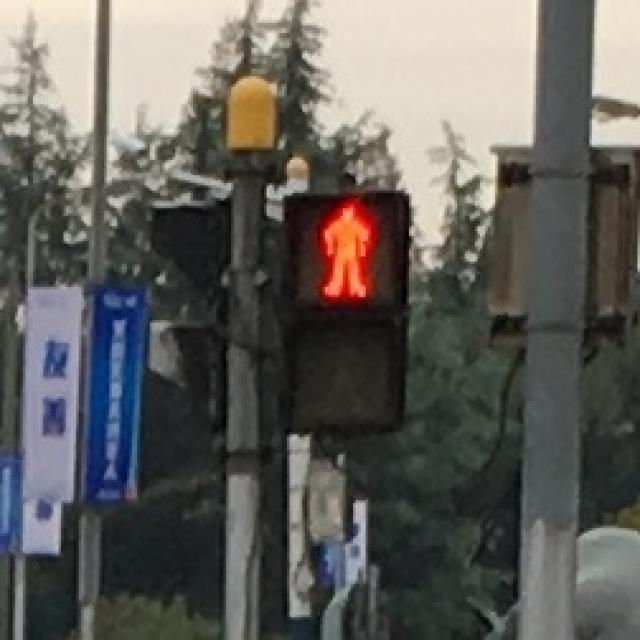red-crossing: (302, 188, 396, 305)
